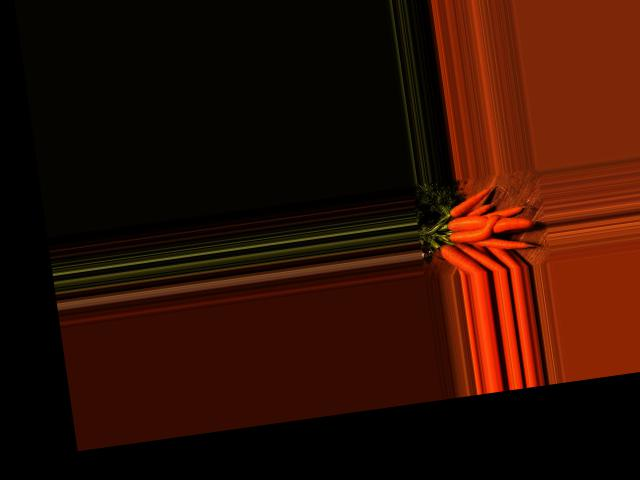carrot: (436, 239, 484, 278)
